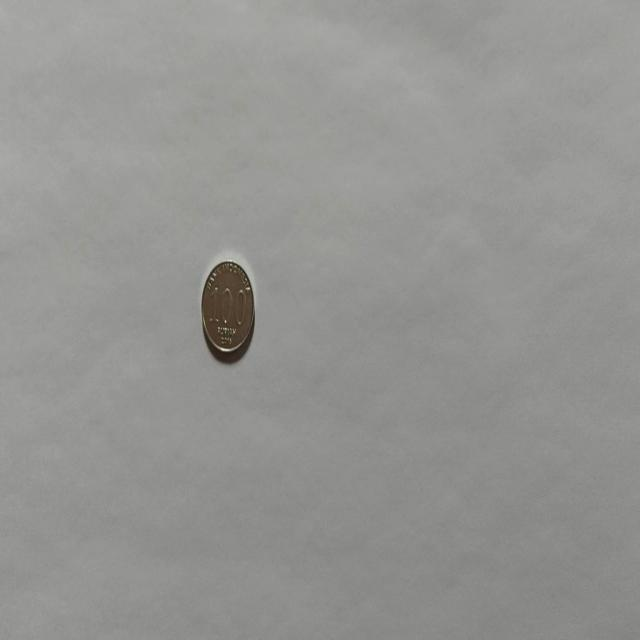seratus rupiah: (200, 258, 255, 358)
